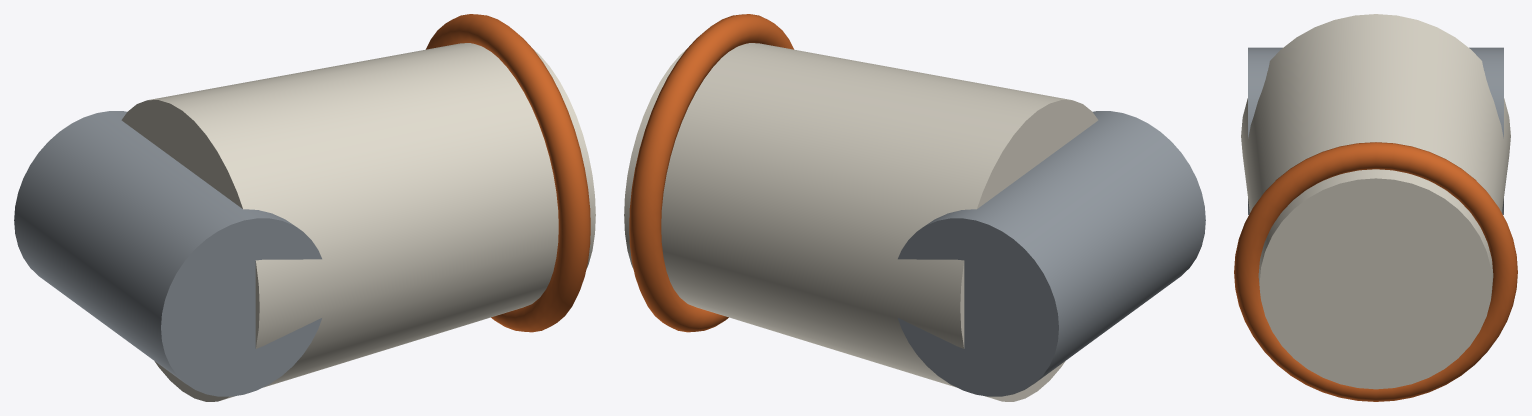
The model's file is tail_yaw_link.glb.
3 views of the same model, side by side, from view 1: azimuth 30°, elevation 25°; view 2: azimuth 150°, elevation 25°; view 3: azimuth 270°, elevation 25° (orthographic). The views are drawn at different scales.
Visible parts, largest first — view 1: tail_yaw_link; view 2: tail_yaw_link; view 3: tail_yaw_link.
Part boxes in pixels (left/top/right/bottom): tail_yaw_link: left=14, top=14, right=595, bottom=401; tail_yaw_link: left=624, top=14, right=1205, bottom=401; tail_yaw_link: left=1234, top=14, right=1517, bottom=401.
Bounding box in the file's own units: 0.191 × 0.122 × 0.122.
